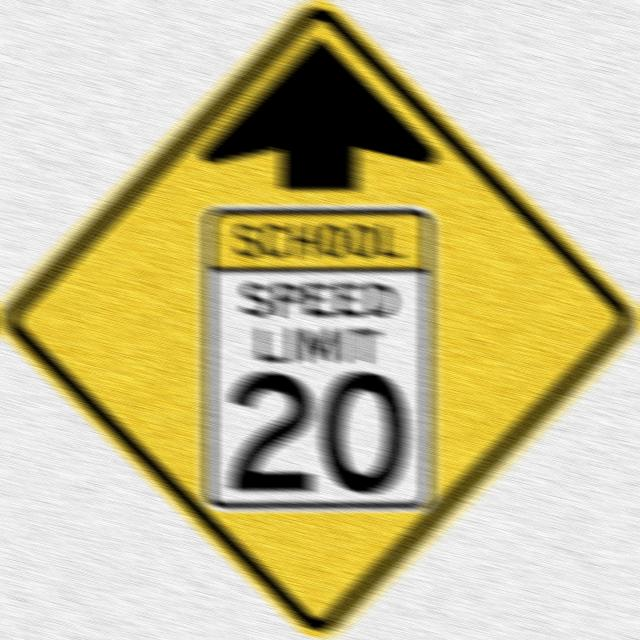speedLimit20: (206, 268, 428, 500)
